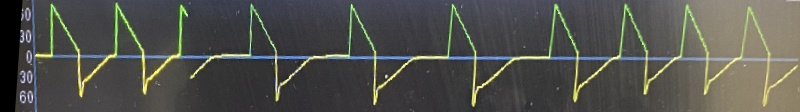normal_flow: (27, 0, 800, 112)
